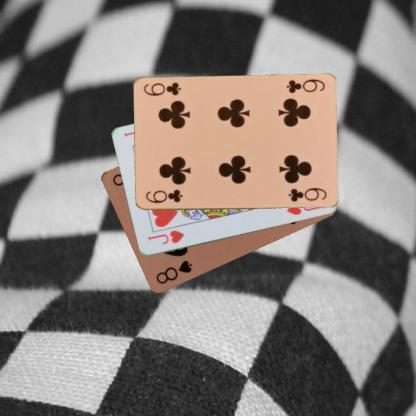6c: (284, 76, 326, 95), (142, 186, 184, 204)
8s: (153, 258, 194, 286)
Jh: (145, 228, 185, 246)
